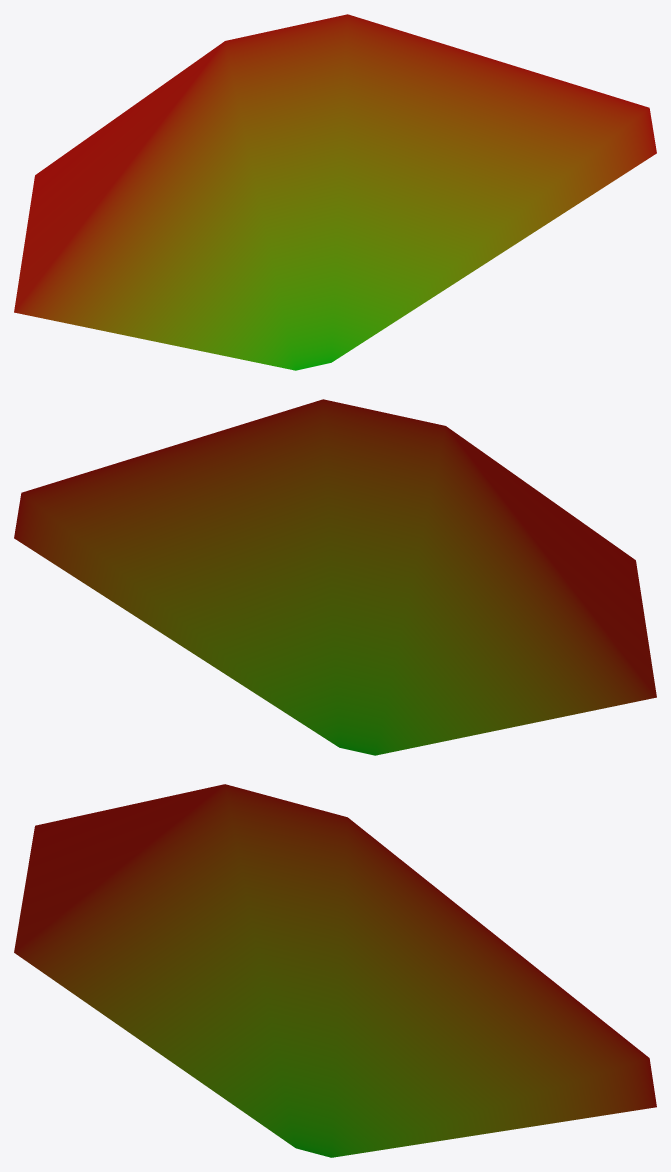
The model's file is Purple Ornamental Kale_LOD6_Var9_ugdieawja.fbx.
3 renders of one model, top to bottom at view 1: azimuth 30°, elevation 25°; view 2: azimuth 150°, elevation 25°; view 3: azimuth 330°, elevation 25°, orthographic.
Parts seen in each view (by area): view 1: _ecbd_Var9_LOD6; view 2: _ecbd_Var9_LOD6; view 3: _ecbd_Var9_LOD6.
Part boxes in pixels (x1=…): _ecbd_Var9_LOD6: x1=14, y1=14, x2=656, y2=370; _ecbd_Var9_LOD6: x1=14, y1=399, x2=656, y2=755; _ecbd_Var9_LOD6: x1=14, y1=784, x2=656, y2=1157.
Bounding box in the file's own units: 46.57 × 24.07 × 4.1e-07.
